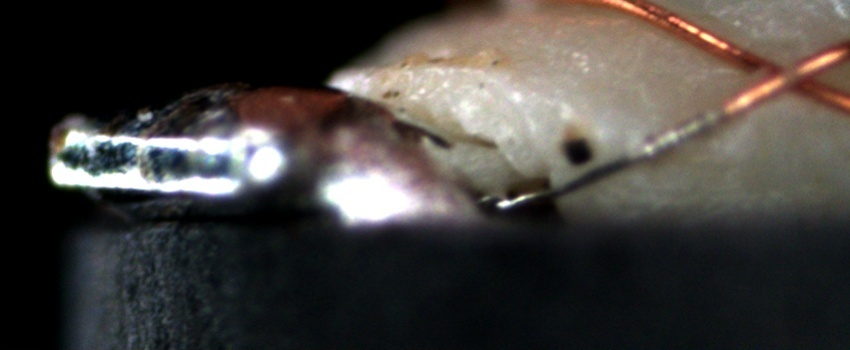CL: (730, 41, 830, 106)
TS: (483, 103, 733, 213)
TTCW: (497, 82, 771, 220)
